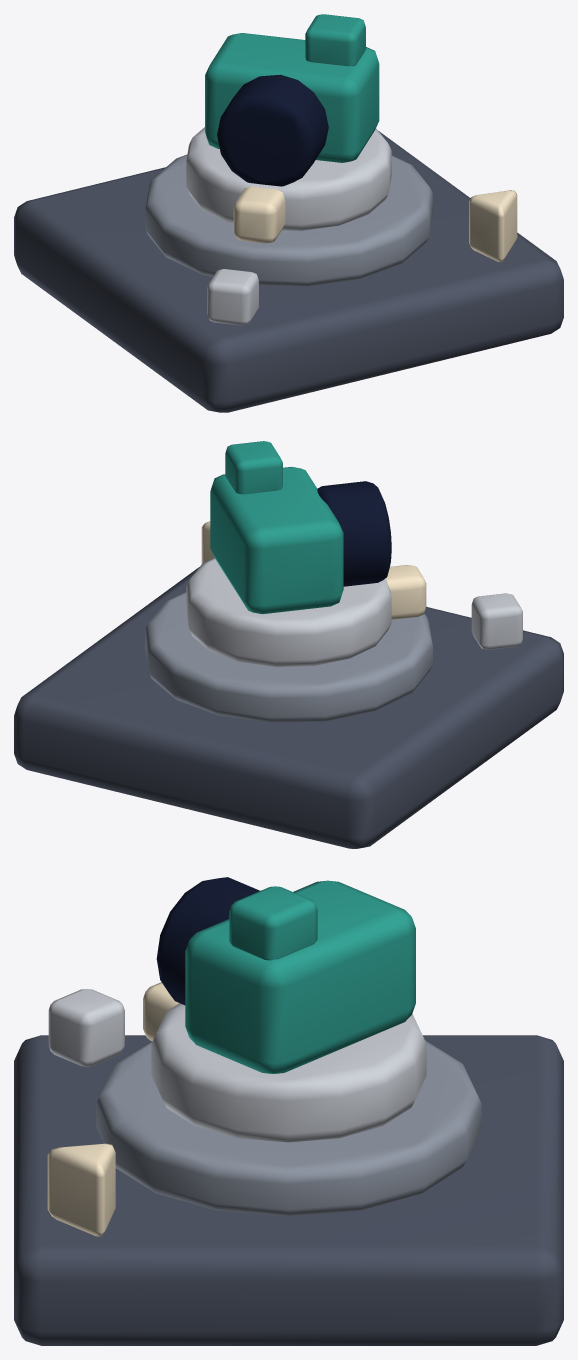
Rendered from Ctrl_Instr_Camera.glb.
3 renders of one model, top to bottom at view 1: azimuth 30°, elevation 25°; view 2: azimuth 150°, elevation 25°; view 3: azimuth 270°, elevation 25°, orthographic. The views are drawn at different scales.
Visible parts, largest first — view 1: Ctrl_Instr_Camera.Base, Ctrl_Instr_Camera.Move_Knob, Ctrl_Instr_Camera.Dial, Ctrl_Instr_Camera.Marks; view 2: Ctrl_Instr_Camera.Base, Ctrl_Instr_Camera.Move_Knob, Ctrl_Instr_Camera.Dial, Ctrl_Instr_Camera.Marks; view 3: Ctrl_Instr_Camera.Base, Ctrl_Instr_Camera.Move_Knob, Ctrl_Instr_Camera.Dial, Ctrl_Instr_Camera.Marks.
Part boxes in pixels (x1,y1,x2,y2): Ctrl_Instr_Camera.Base: (14,131,563,412); Ctrl_Instr_Camera.Move_Knob: (186,14,391,243); Ctrl_Instr_Camera.Dial: (145,154,432,286); Ctrl_Instr_Camera.Marks: (207,190,517,325); Ctrl_Instr_Camera.Base: (14,567,563,848); Ctrl_Instr_Camera.Move_Knob: (186,441,426,666); Ctrl_Instr_Camera.Dial: (145,591,432,722); Ctrl_Instr_Camera.Marks: (201,521,522,649); Ctrl_Instr_Camera.Base: (14,1035,563,1345); Ctrl_Instr_Camera.Move_Knob: (143,877,426,1142); Ctrl_Instr_Camera.Dial: (96,1040,481,1216); Ctrl_Instr_Camera.Marks: (47,989,124,1236).
Bounding box in the file's own units: 0.2 × 0.147 × 0.2.
1 material, 1 textured.
